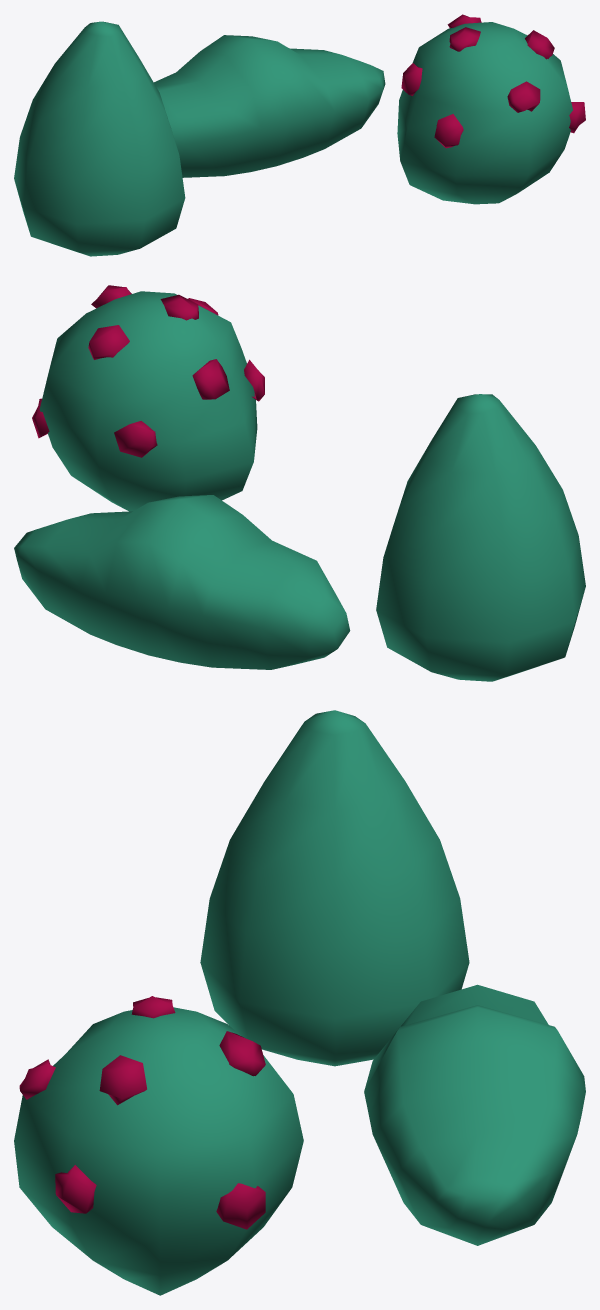
Rendered from New_Bush_Model.fbx.
3 renders of one model, top to bottom at view 1: azimuth 30°, elevation 25°; view 2: azimuth 150°, elevation 25°; view 3: azimuth 270°, elevation 25°, orthographic. The views are drawn at different scales.
Parts seen in each view (by area): view 1: pSphere2, pPlatonic11, pSphere1; view 2: pSphere2, pSphere1, pPlatonic11; view 3: pSphere2, pPlatonic11, pSphere1.
Boxes of the visible parts, x1,y1,x2,y2 form: pSphere2: [14, 21, 185, 256]; pPlatonic11: [397, 14, 585, 204]; pSphere1: [154, 35, 385, 177]; pSphere2: [376, 394, 585, 681]; pSphere1: [14, 495, 350, 669]; pPlatonic11: [32, 285, 264, 511]; pSphere2: [200, 710, 469, 1066]; pPlatonic11: [14, 996, 303, 1295]; pSphere1: [364, 984, 585, 1245].
Size of the model in its own units: 5.4 by 2.35 by 3.63.
Materials: 3 (3 with a texture image).
